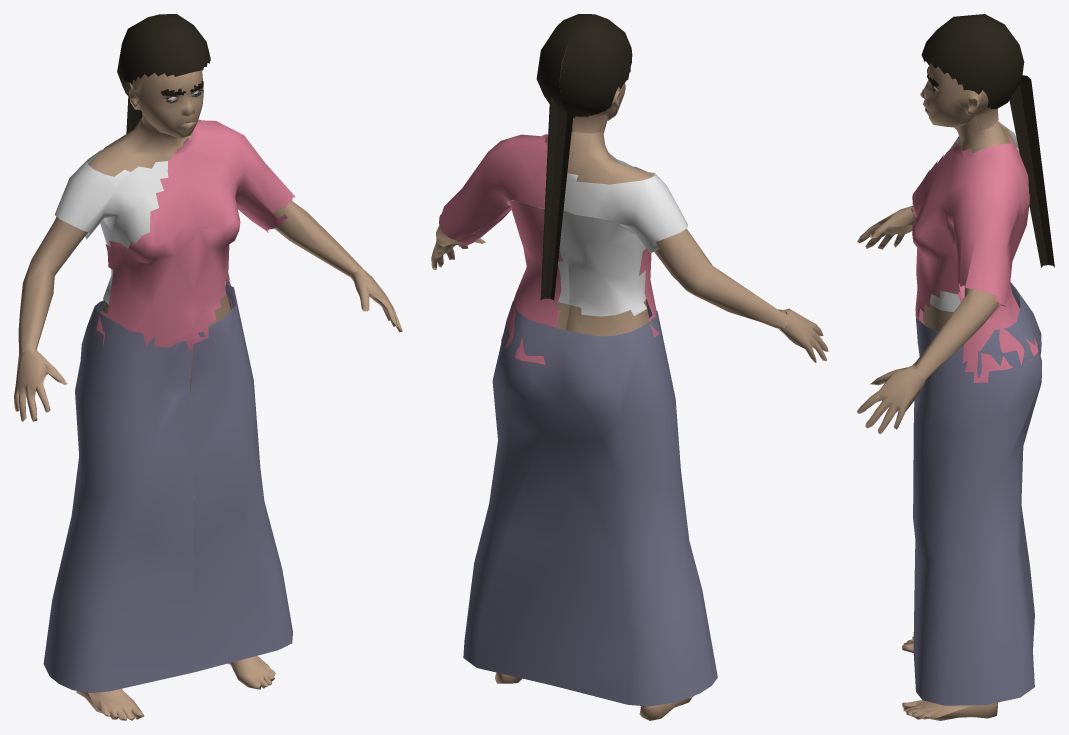
Rendered from woman_00.glb.
The picture shows the model from 3 angles, left to right: view 1: azimuth 30°, elevation 25°; view 2: azimuth 150°, elevation 25°; view 3: azimuth 270°, elevation 25°; orthographic projection. The views are drawn at different scales.
Parts seen in each view (by area): view 1: crowd; view 2: crowd; view 3: crowd.
Part boxes in pixels (bbox=[...]): crowd: bbox=[14, 14, 402, 720]; crowd: bbox=[431, 14, 828, 720]; crowd: bbox=[857, 14, 1054, 720].
Bounding box in the file's own units: 0.8883 × 1.48 × 0.4008.
